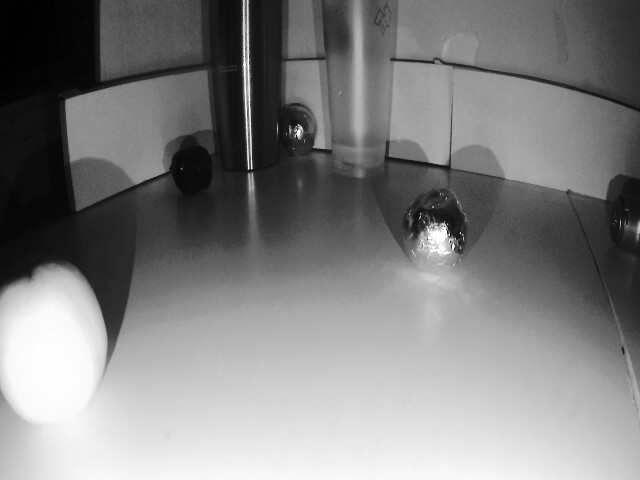black: (401, 183, 472, 272), (280, 100, 317, 159)
silver: (174, 139, 213, 199)
